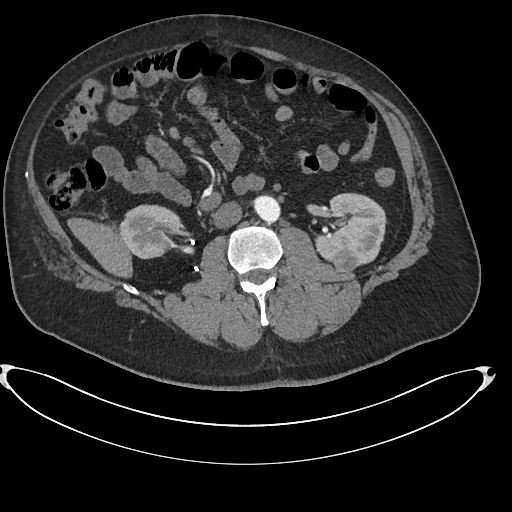Lesion: (332, 248, 363, 276)
